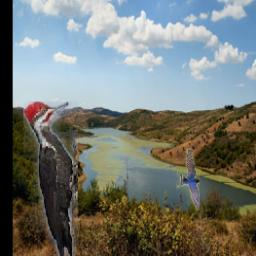Swallow: (176, 149, 200, 212)
Woodpecker: (23, 102, 78, 256)
